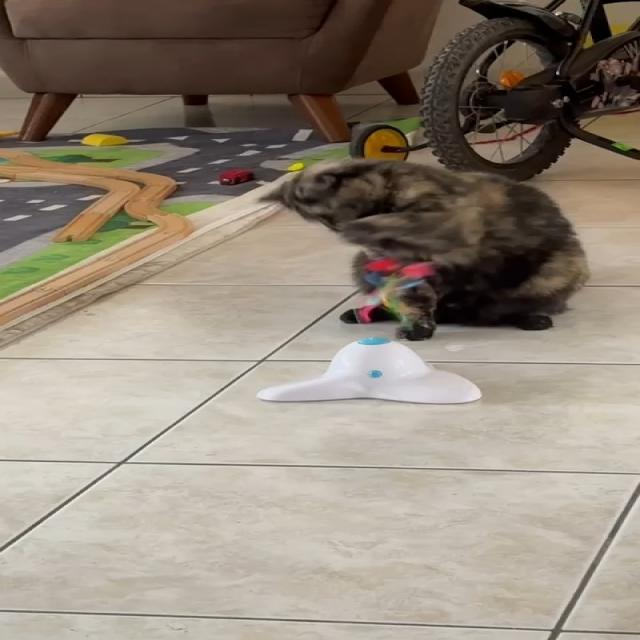authorized: (258, 157, 590, 340)
